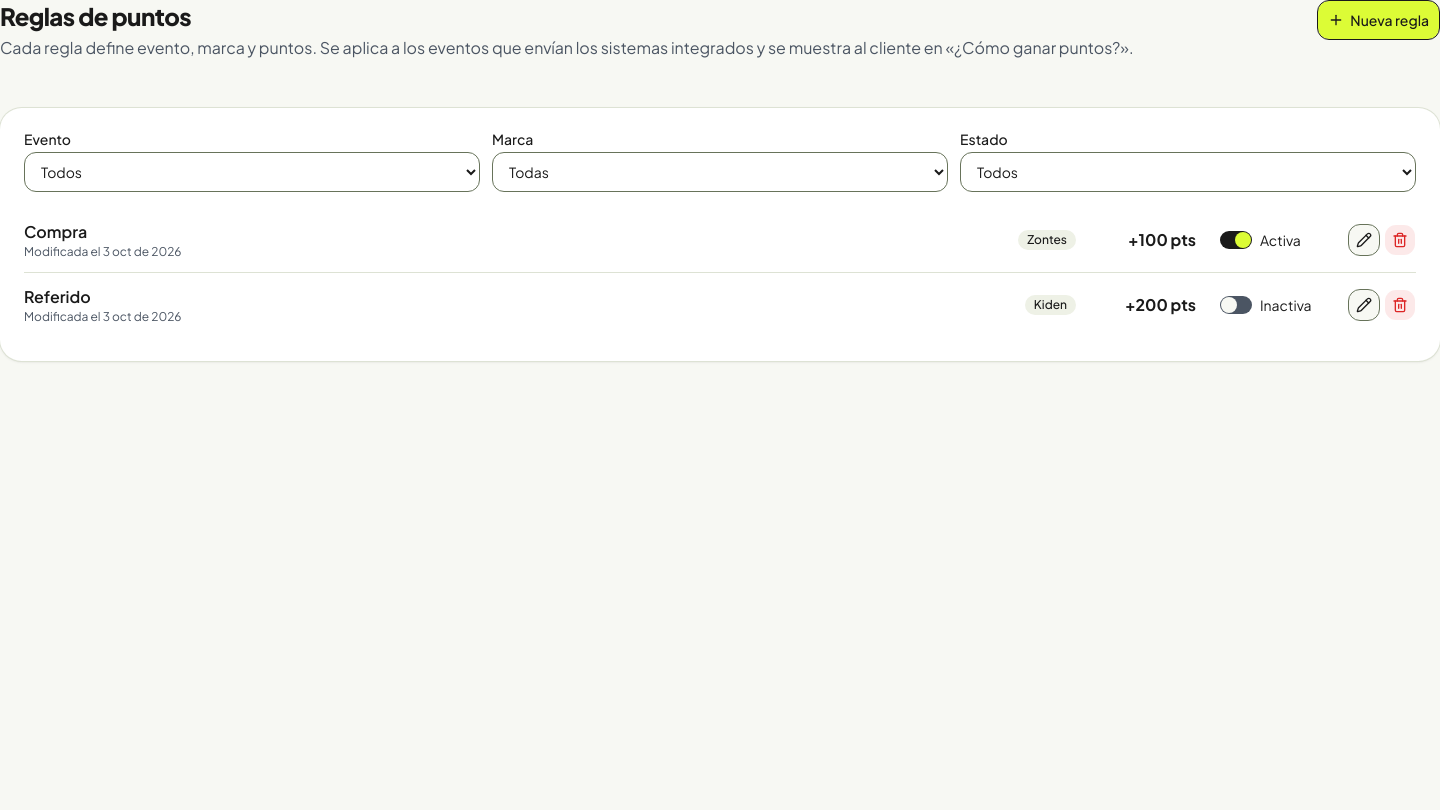
F2-FE-02 · Reglas de puntos (UI-04, A05) › no envía puntos negativos y muestra el conflicto del backend
Step 1. Click the button "Nueva regla" → (1379, 20), box [1317,0,1439,40]
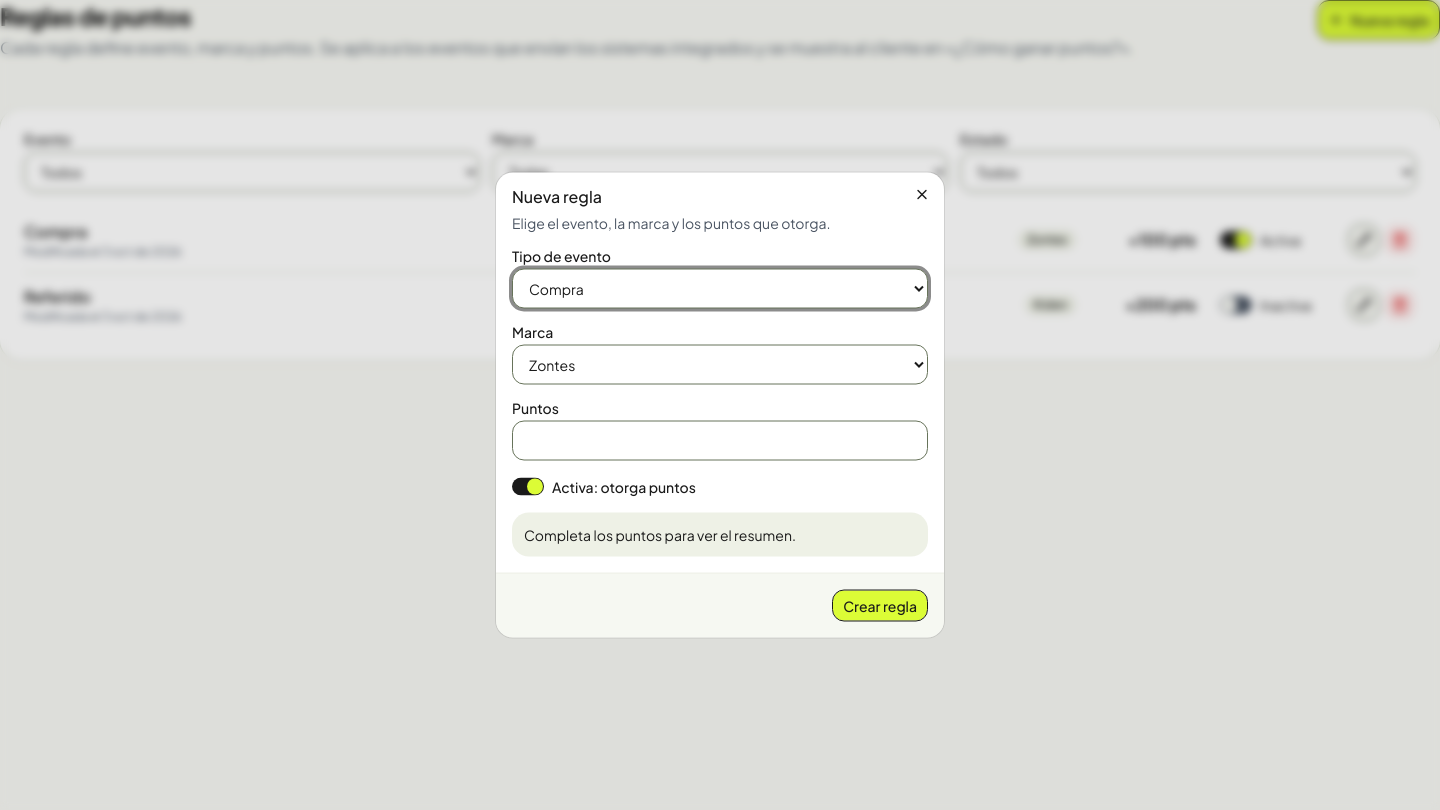
Step 2. Type "-5" into the number field labelled "Puntos" → (720, 440), box [512,420,928,460]
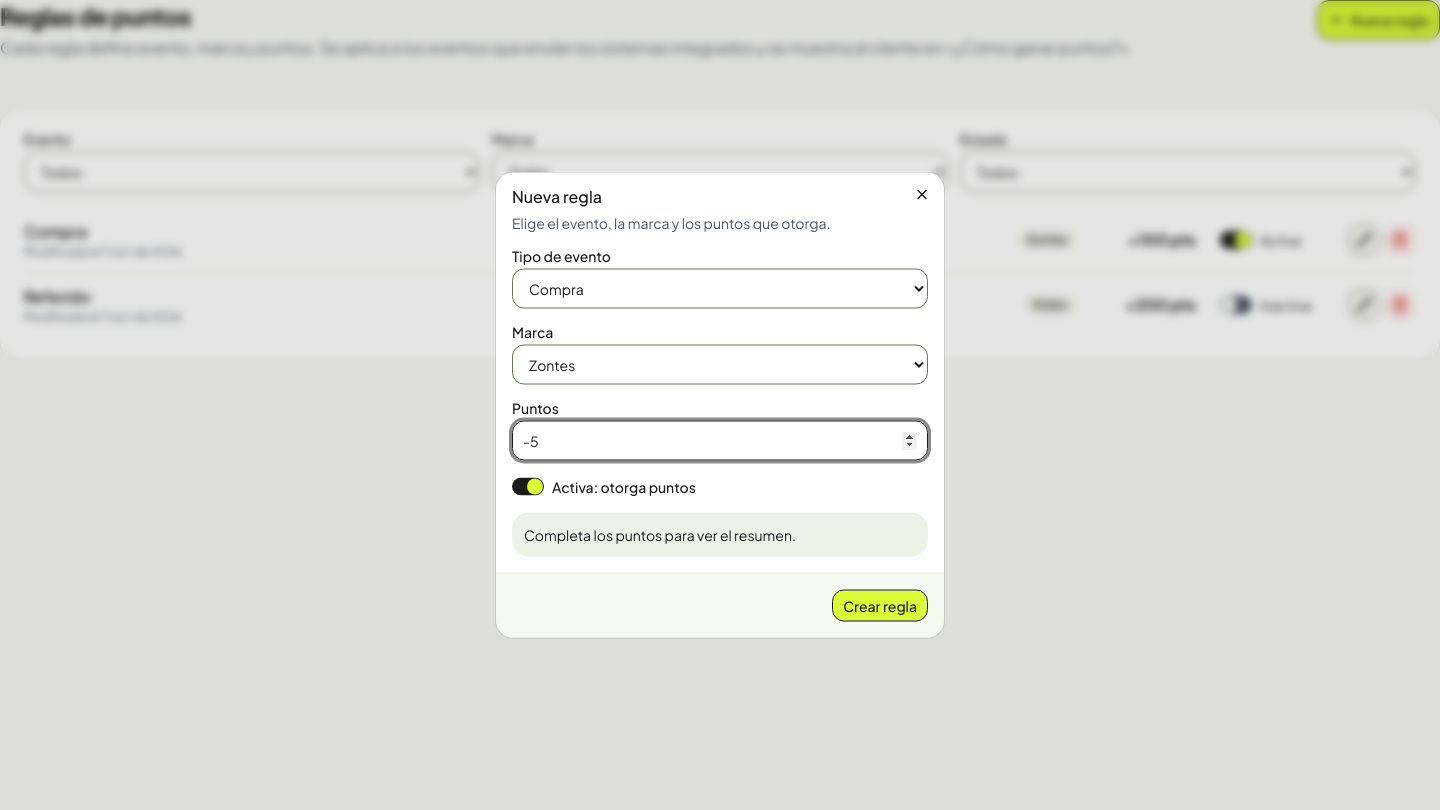
Step 3. Click the button "Crear regla" → (880, 606), box [832,590,928,622]
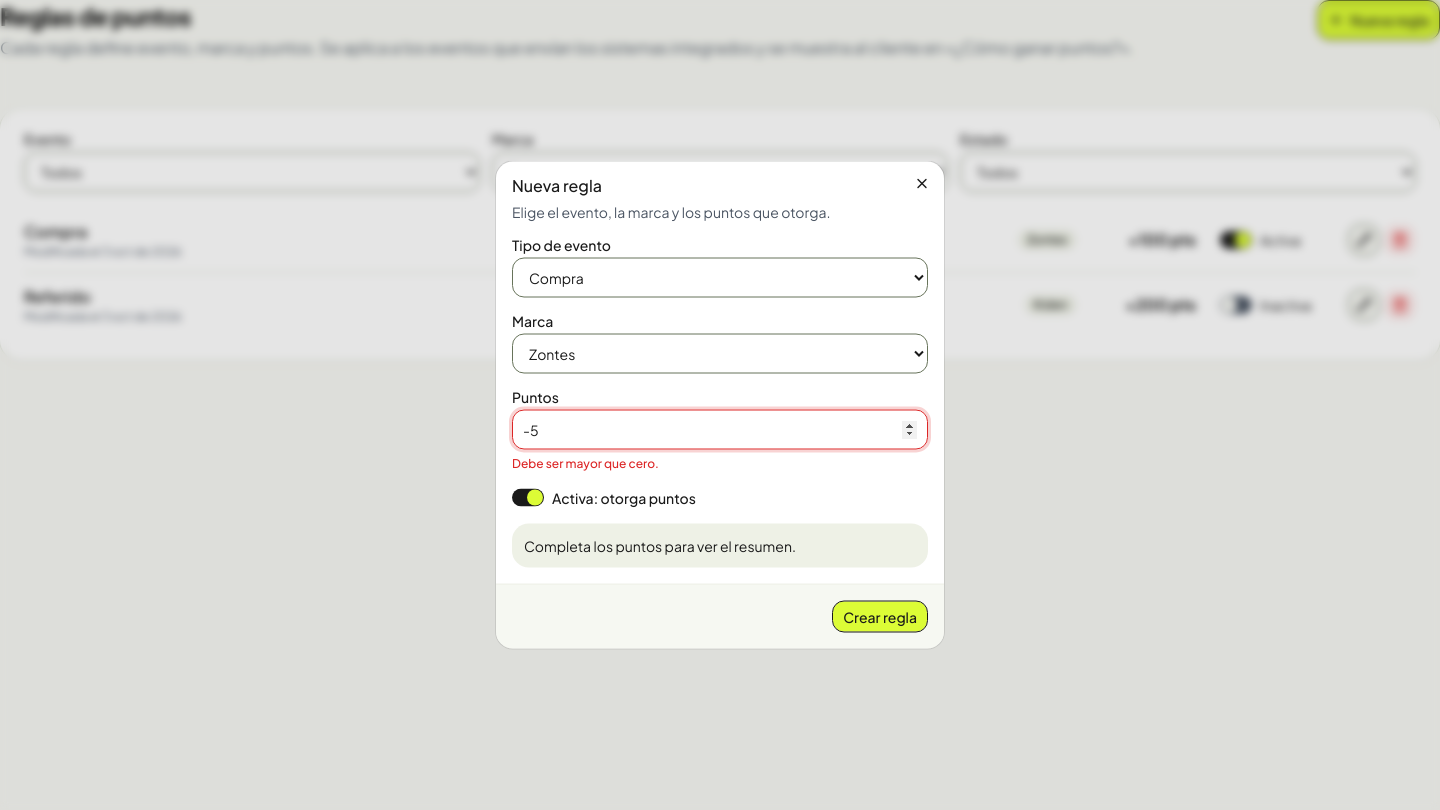
Result: the text "Debe ser mayor que cero." is shown at [512,456,659,470]
Step 4. Replace the text in the number field labelled "Puntos" with "10" → (720, 430), box [512,410,928,450]
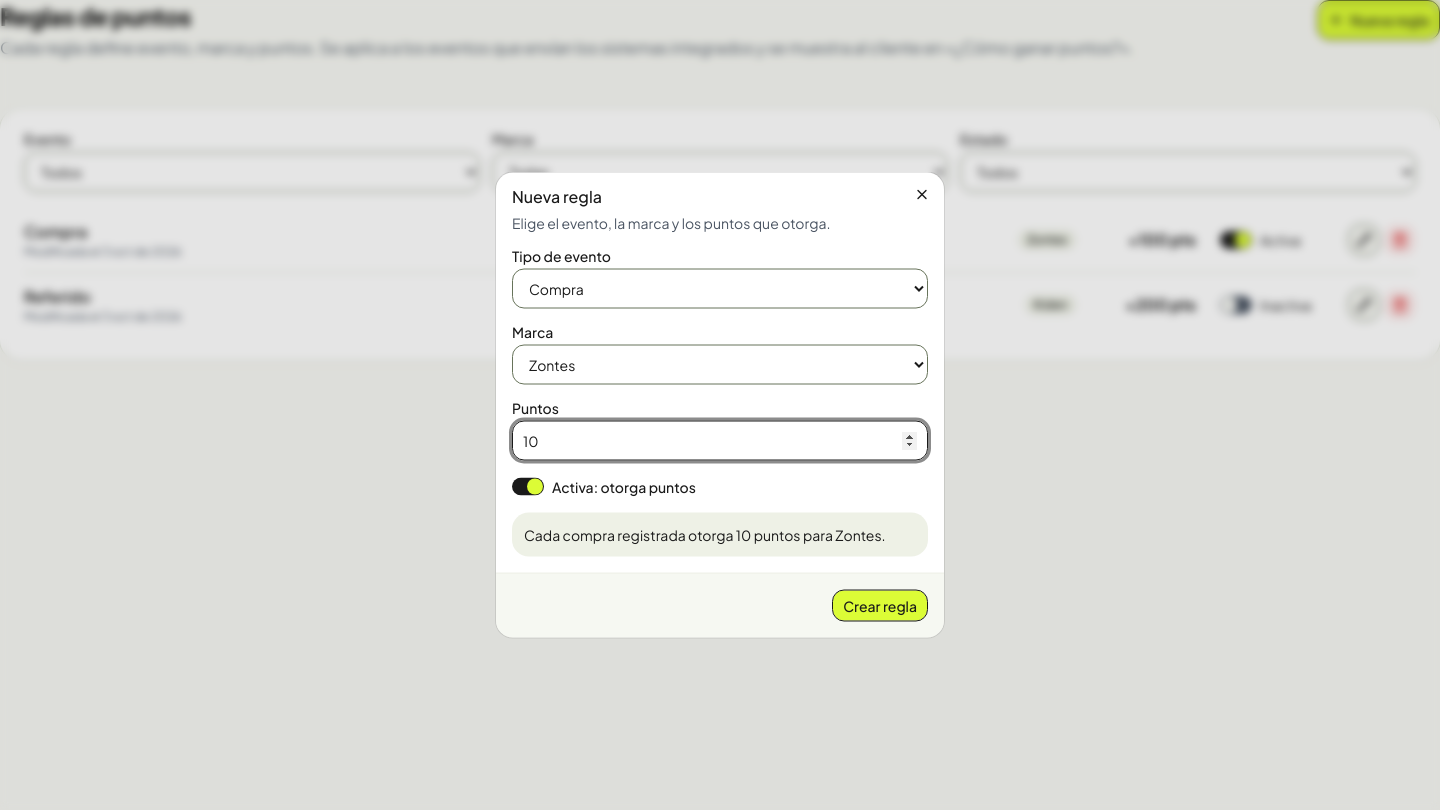
Step 5. Click the button "Crear regla" → (880, 606), box [832,590,928,622]
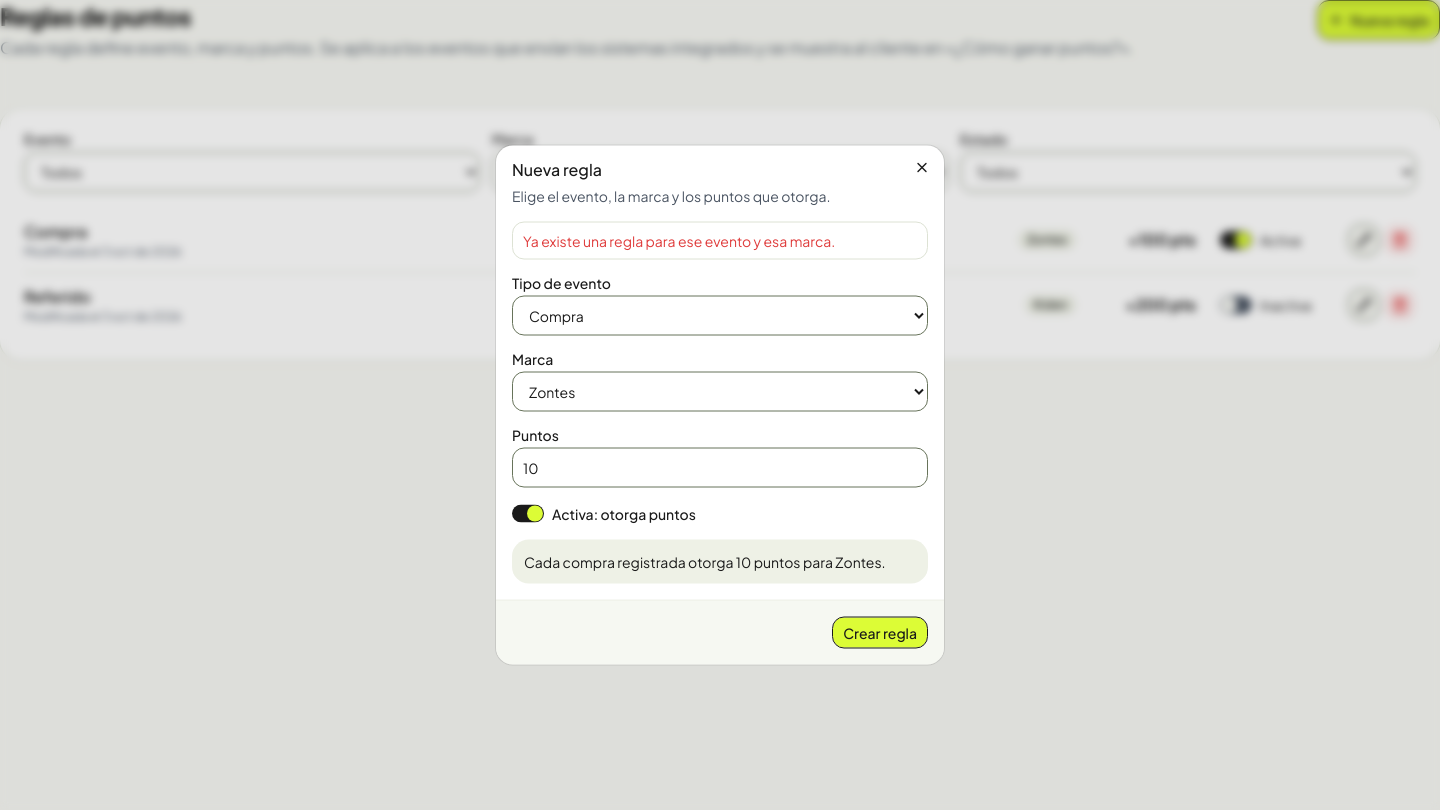
Result: the message shows "Ya existe una regla" at [523,232,835,250]
